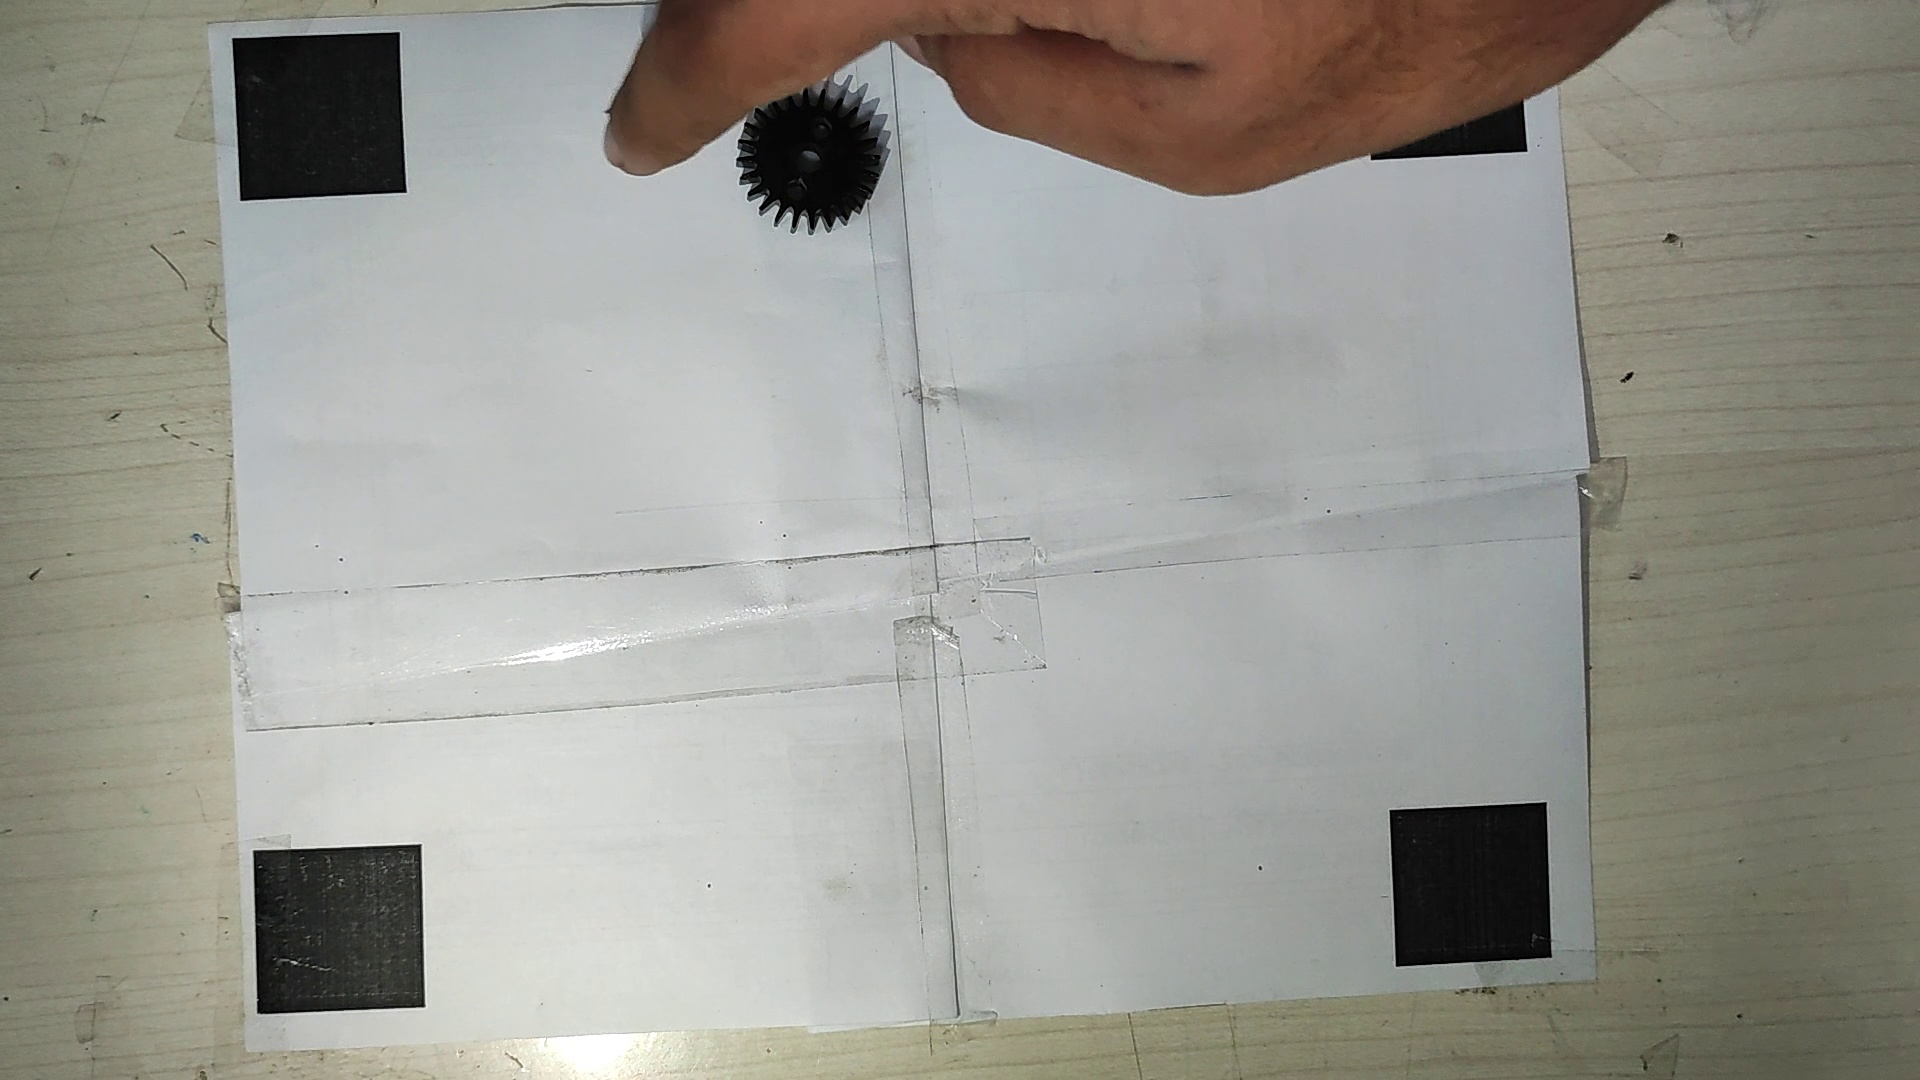Gear: (740, 86, 889, 233)
